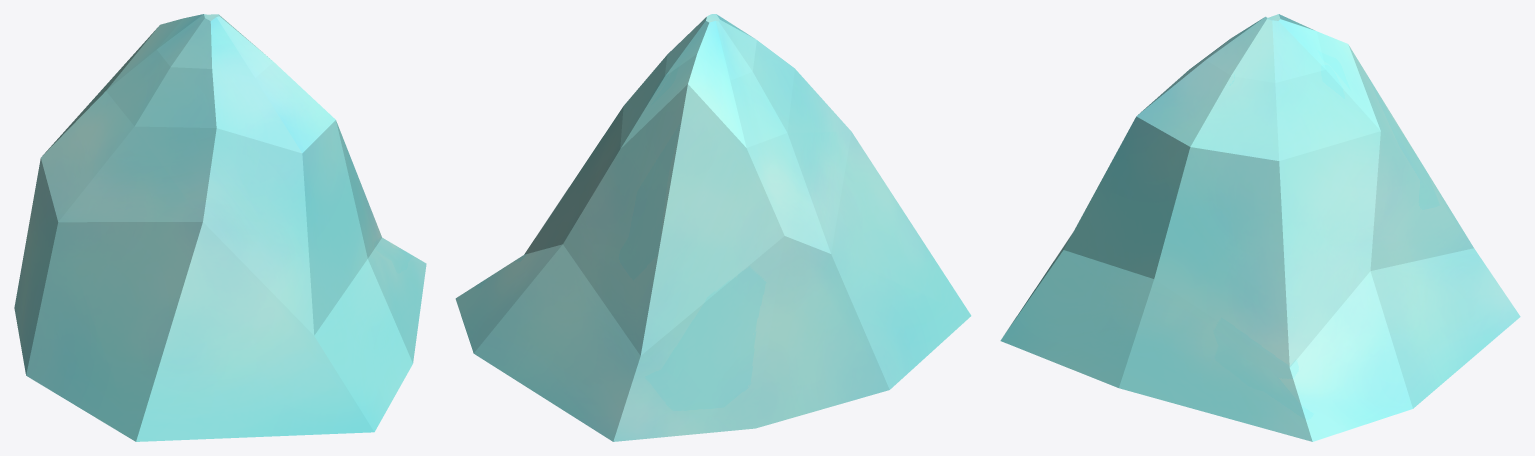
Rendered from mountain.fbx.
The picture shows the model from 3 angles, left to right: view 1: azimuth 30°, elevation 25°; view 2: azimuth 150°, elevation 25°; view 3: azimuth 270°, elevation 25°; orthographic projection. The views are drawn at different scales.
Parts seen in each view (by area): view 1: mountain; view 2: mountain; view 3: mountain.
Boxes of the visible parts, box(x1,y1,x2,y2) form: mountain: box(14, 14, 426, 441); mountain: box(455, 14, 971, 441); mountain: box(1000, 14, 1520, 441).
Bounding box in the file's own units: 347 × 257 × 386.
Materials: 1 (1 with a texture image).
